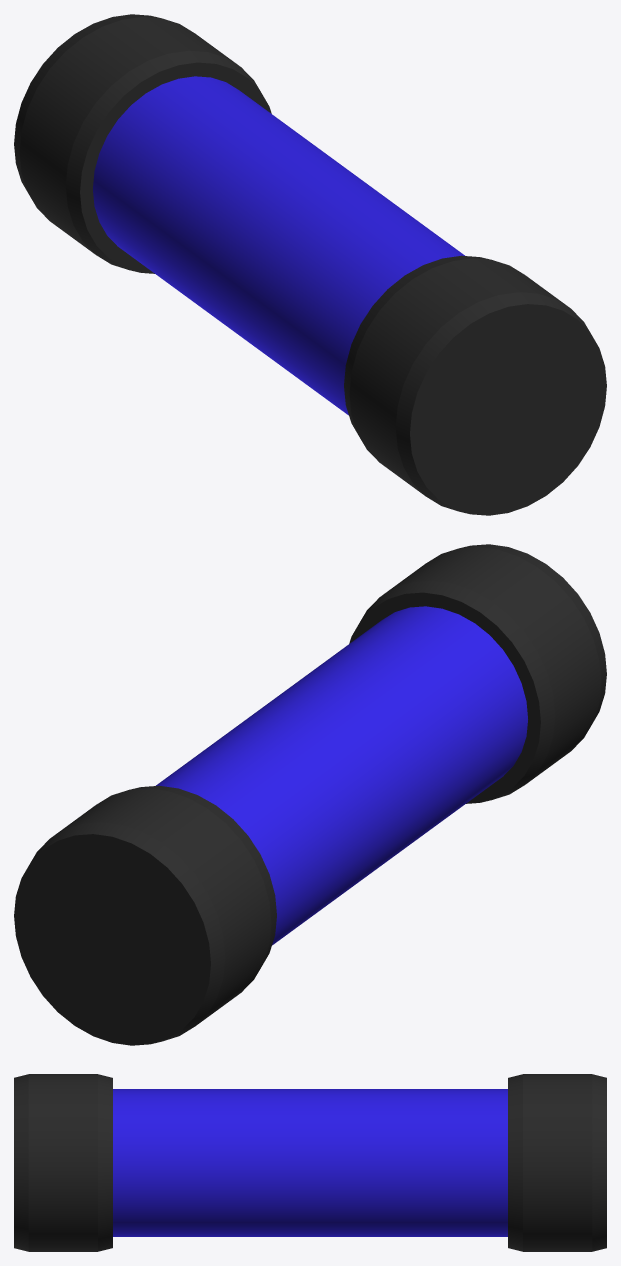
File: Fuse.fbx
3 renders of one model, top to bottom at view 1: azimuth 30°, elevation 25°; view 2: azimuth 150°, elevation 25°; view 3: azimuth 270°, elevation 25°, orthographic. The views are drawn at different scales.
Parts seen in each view (by area): view 1: Cylinder; view 2: Cylinder; view 3: Cylinder.
Boxes of the visible parts, x1=… form: Cylinder: x1=14, y1=14, x2=606, y2=515; Cylinder: x1=14, y1=544, x2=606, y2=1045; Cylinder: x1=14, y1=1074, x2=606, y2=1251.
Bounding box in the file's own units: 240 × 240 × 800.
